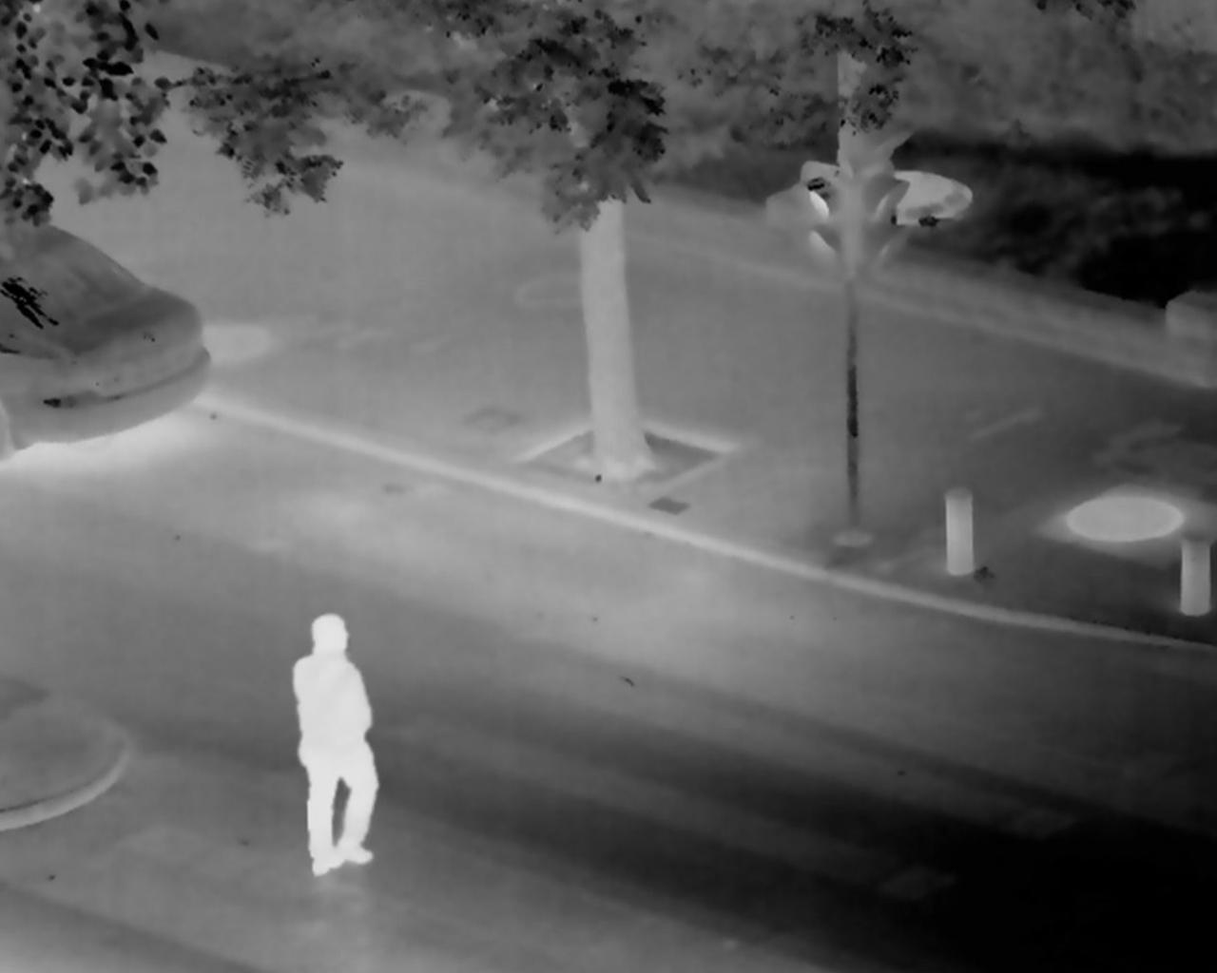person: (266, 607, 415, 874)
